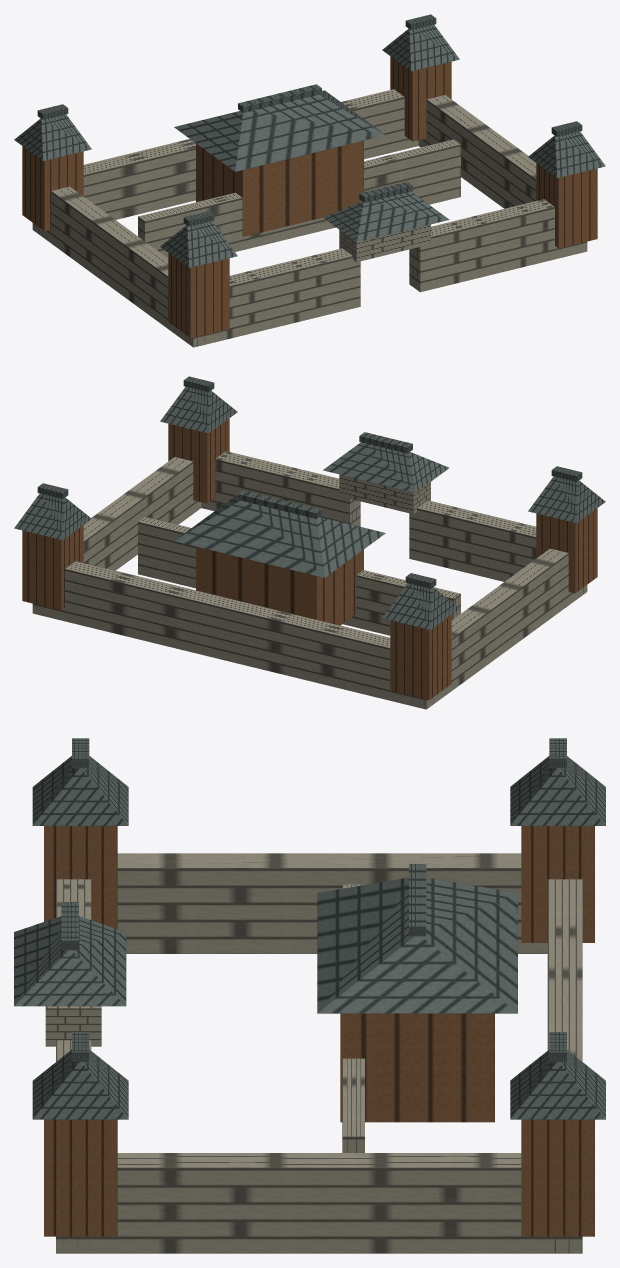
The model's file is city2-lod1.glb.
The picture shows the model from 3 angles, top to bottom: view 1: azimuth 30°, elevation 25°; view 2: azimuth 150°, elevation 25°; view 3: azimuth 270°, elevation 25°; orthographic projection. The views are drawn at different scales.
Bounding box in the file's own units: 2.24 × 0.632 × 1.69.
Materials: 1 (1 with a texture image).
